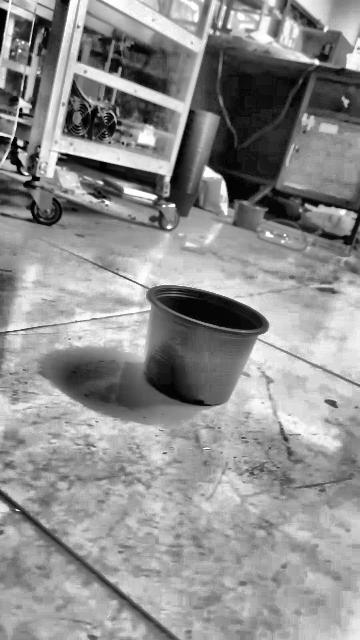pot: (145, 285, 268, 405)
